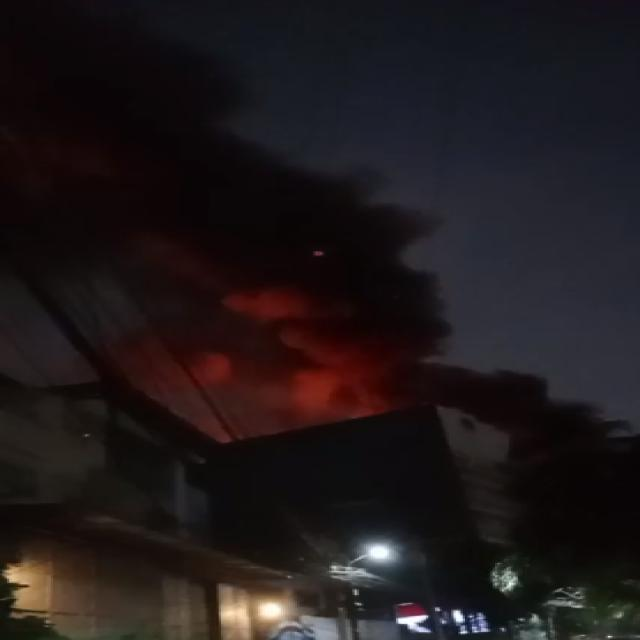Fire: (291, 366, 388, 424)
Smoke: (0, 0, 444, 412), (428, 361, 614, 459)
